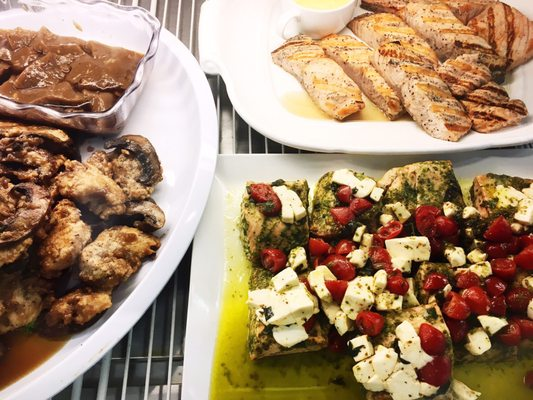sushi: (0, 0, 159, 137)
